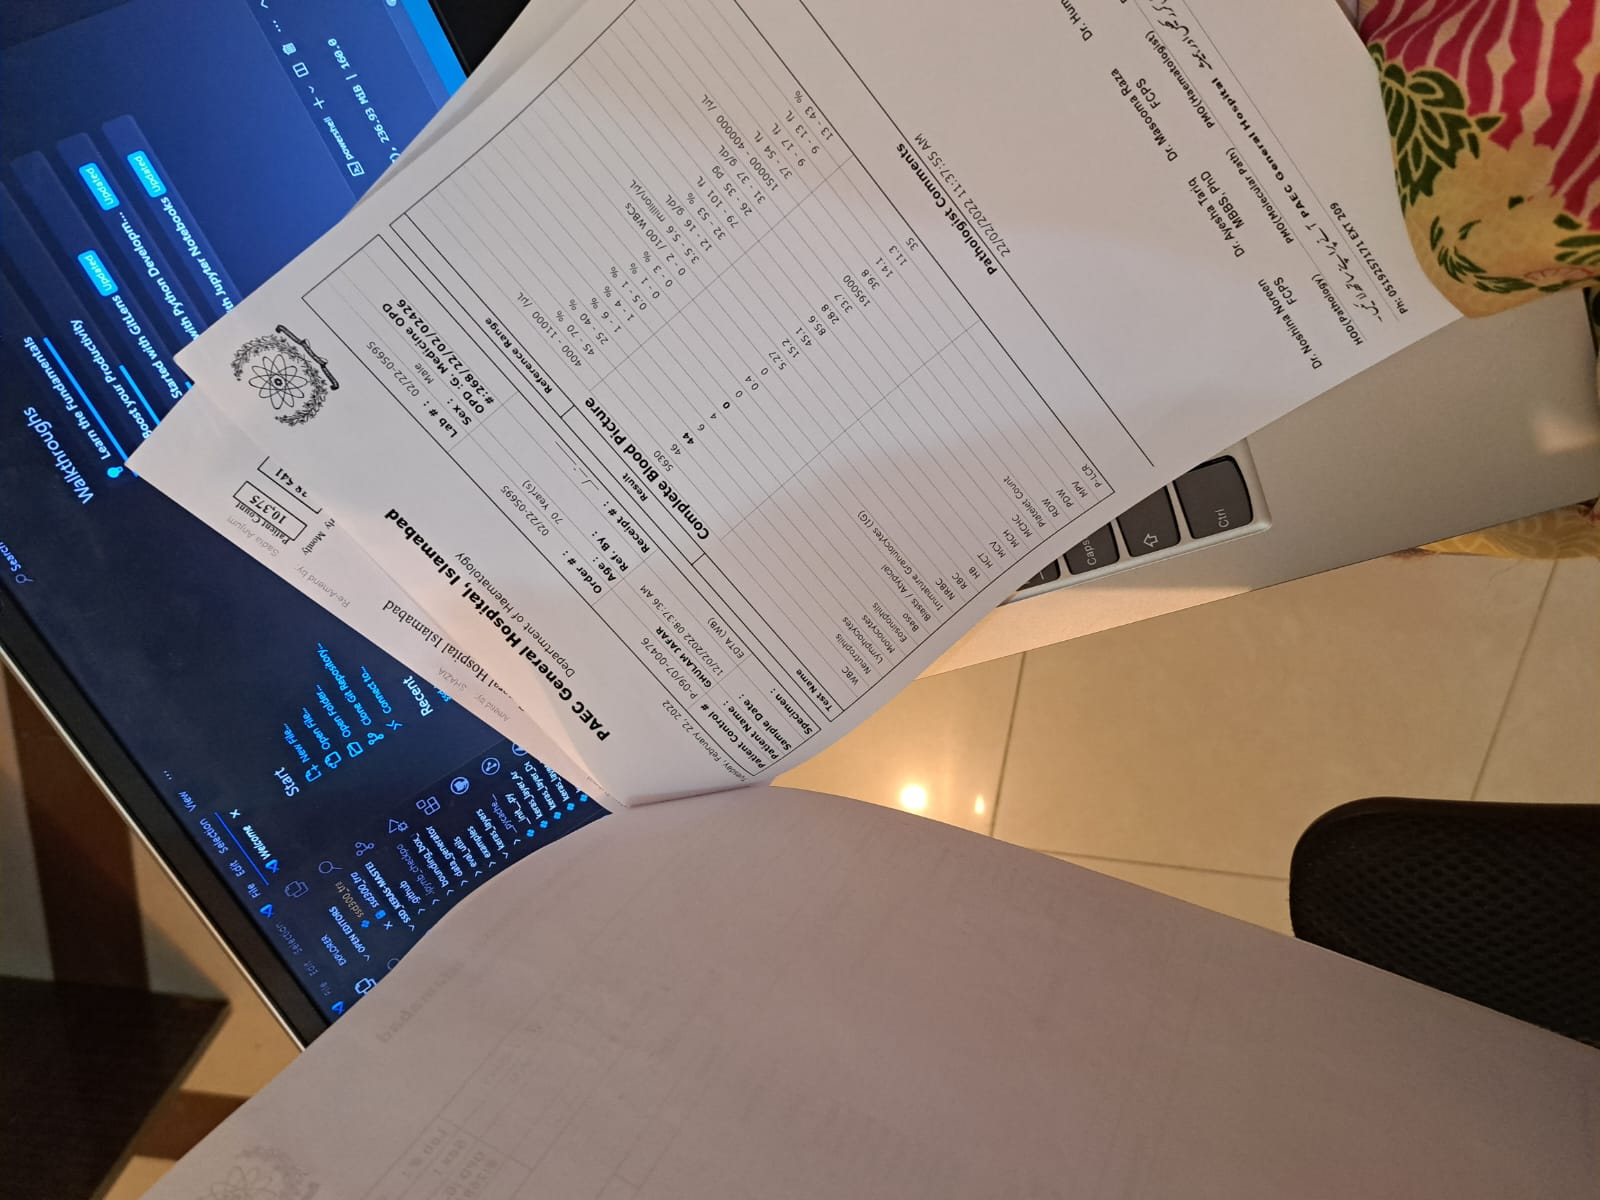report: (379, 1, 1114, 722)
